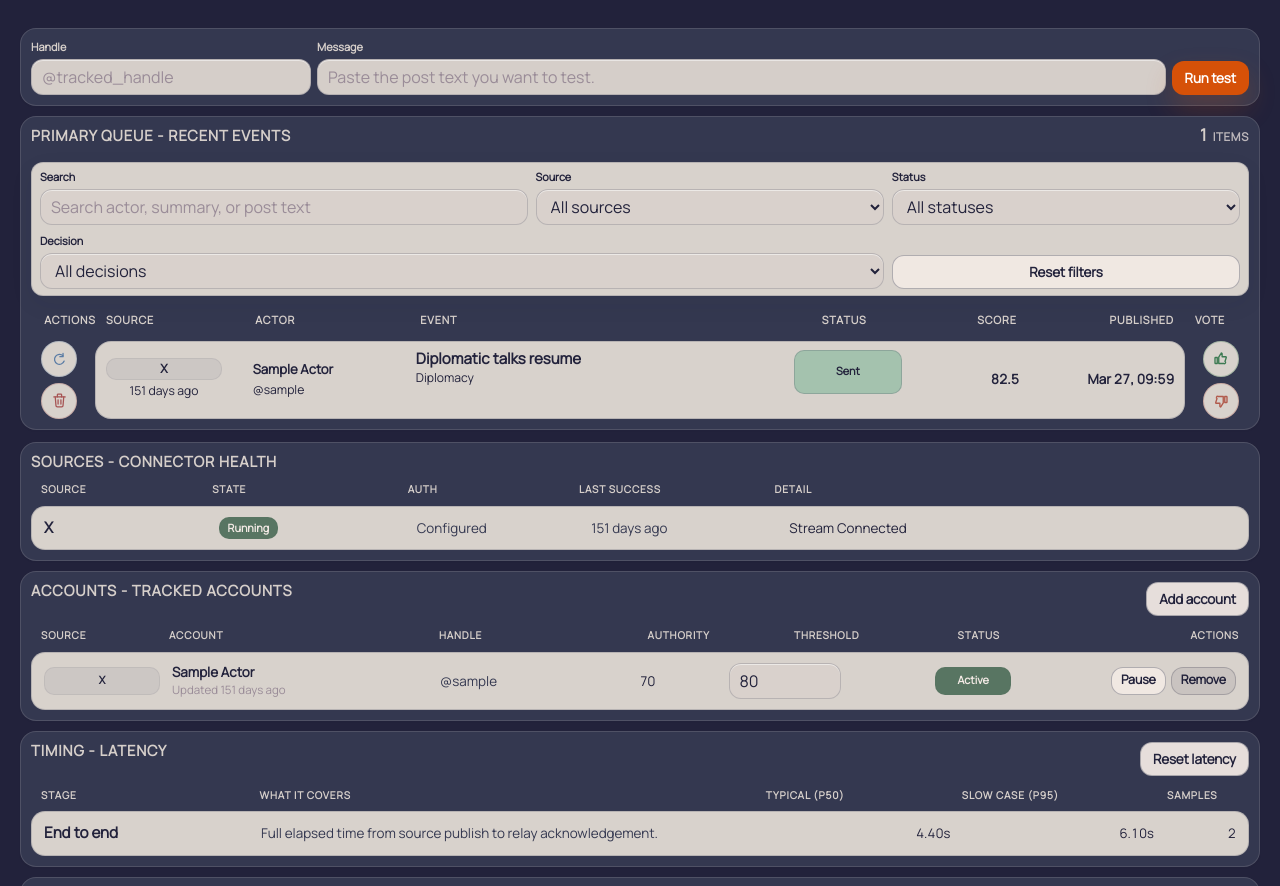
Test: shows validation feedback when adding an invalid account
Click the button "Add account" at (1198, 599), box [1146,582,1249,616]
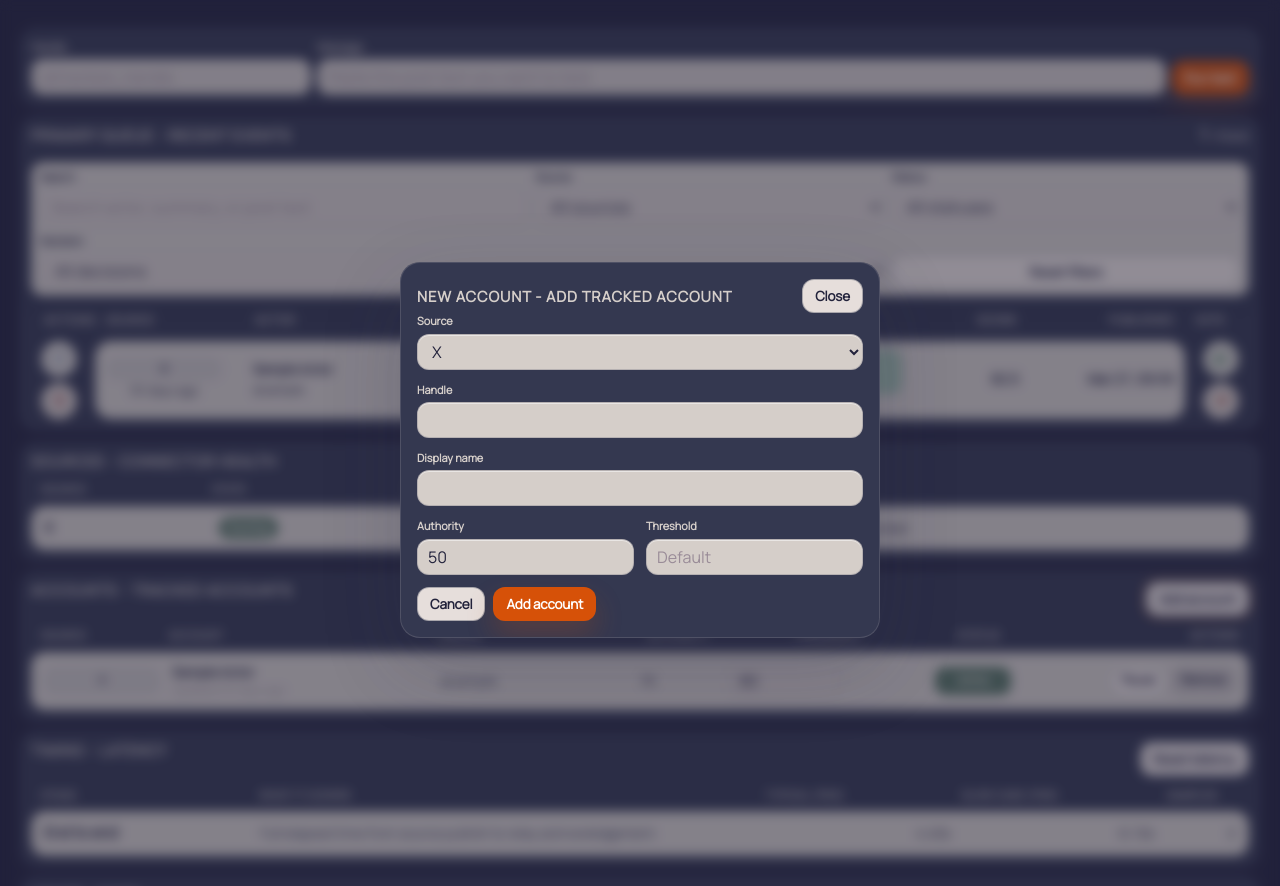
Type "New Actor" into the field labelled "Display name" at (640, 488), box [417,470,863,506]
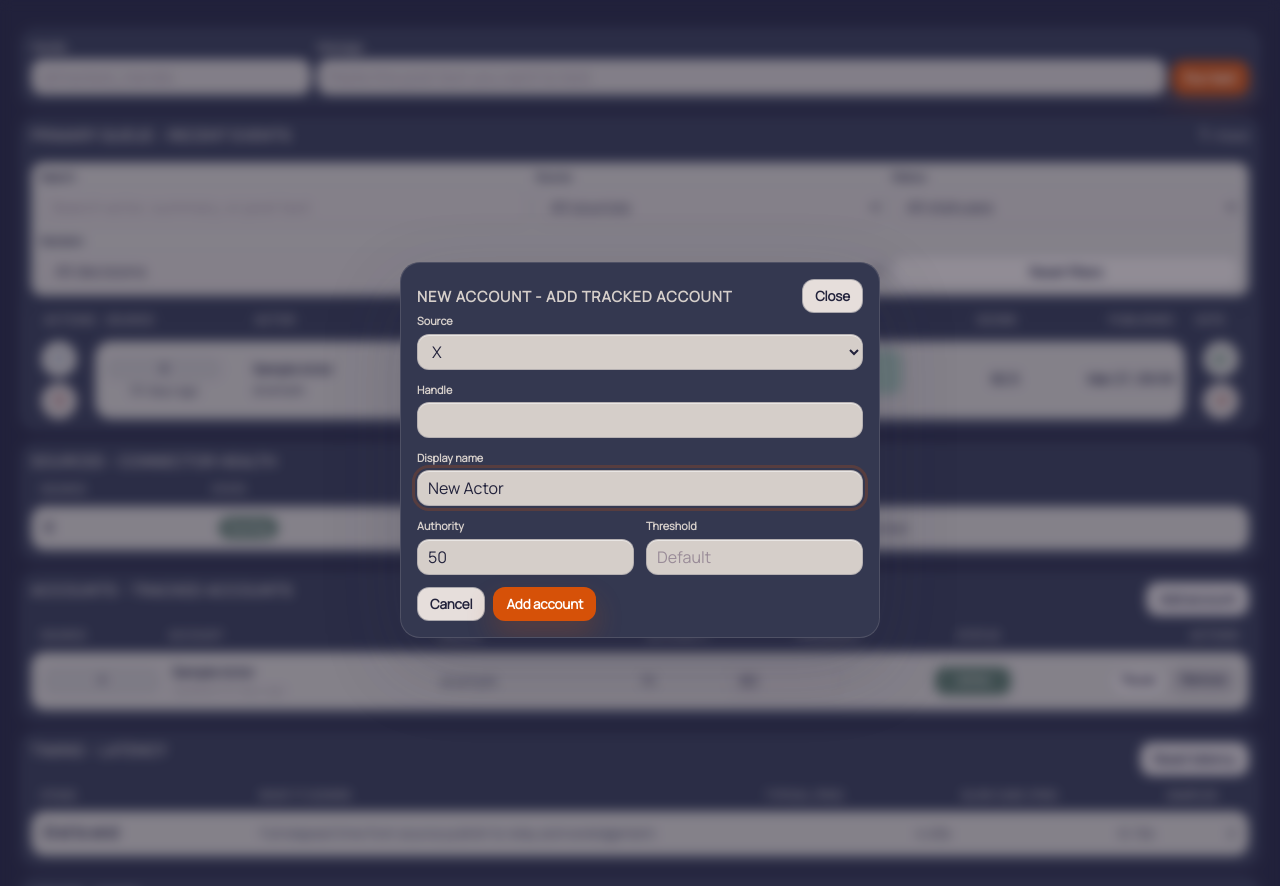
Type "not valid!" into the field labelled "Handle" at (640, 420), box [417,402,863,438]
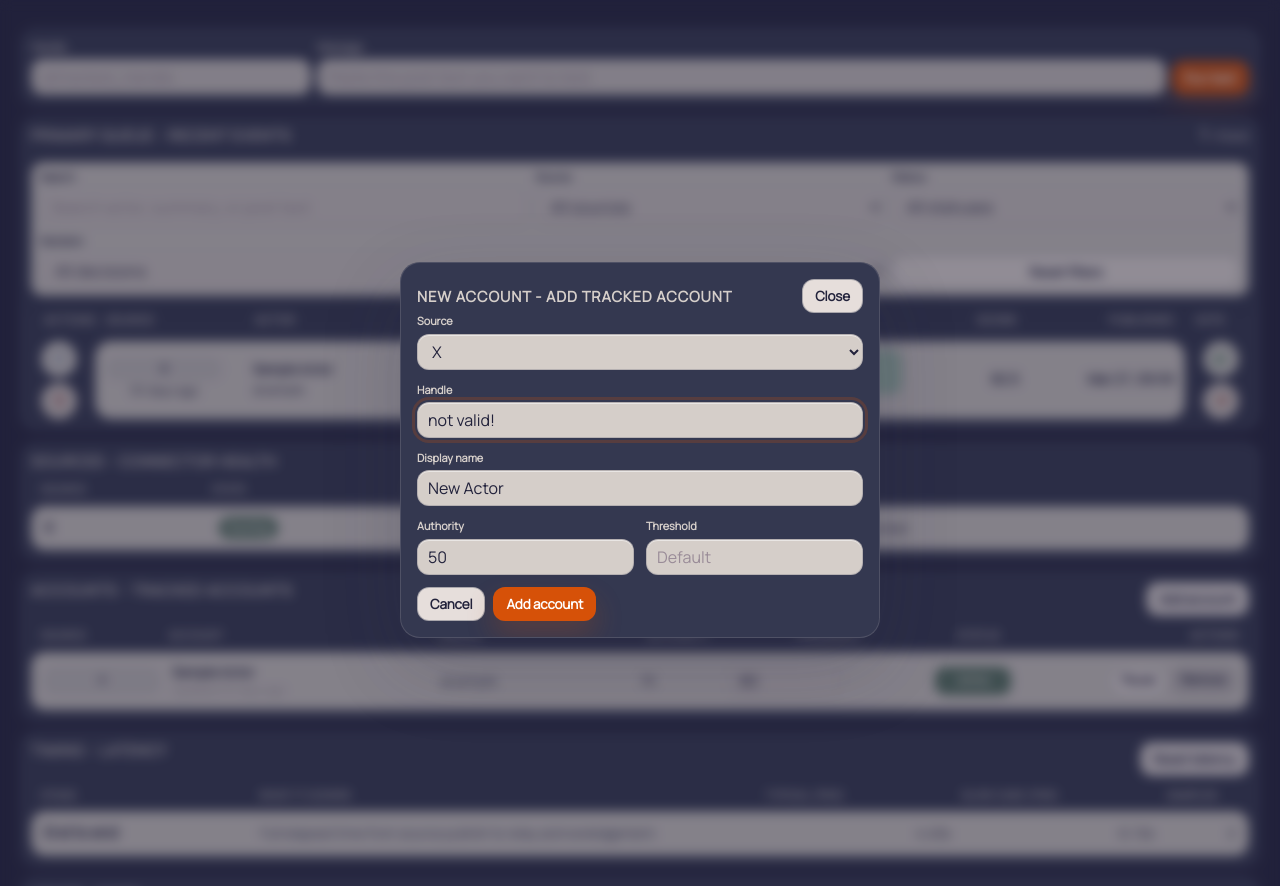
Click the button "Add account" at (545, 604), box [493,587,596,621]
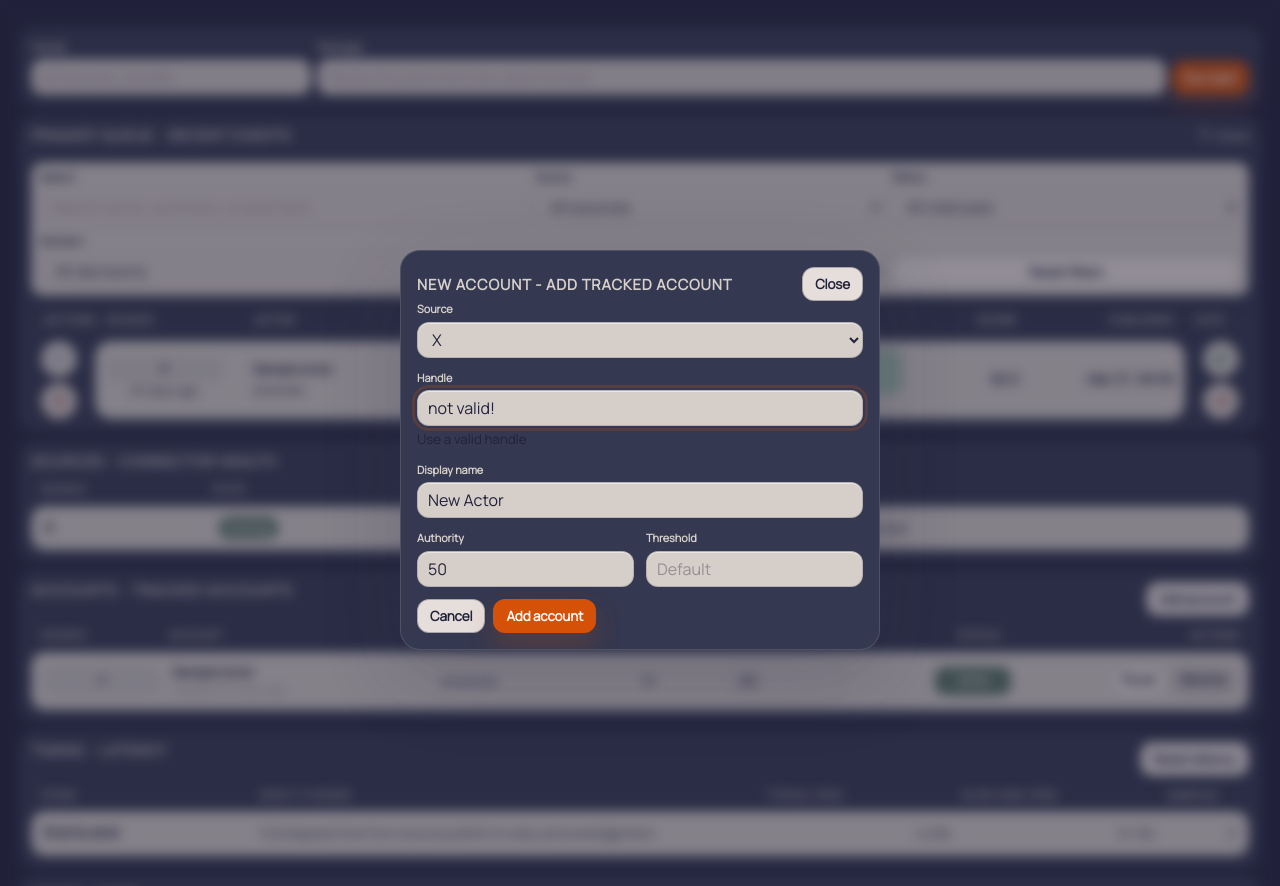
Expected: the text "Use a valid handle" is shown, [417,430,526,448]
